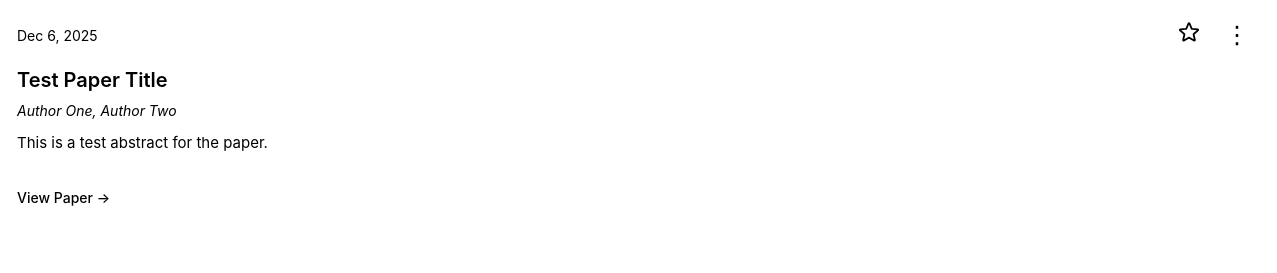
Test case: PaperCard › actions menu › should show actions dropdown when more button is clicked
Click the button titled "More actions".
click(1237, 35)  # box [1217, 16, 1257, 54]
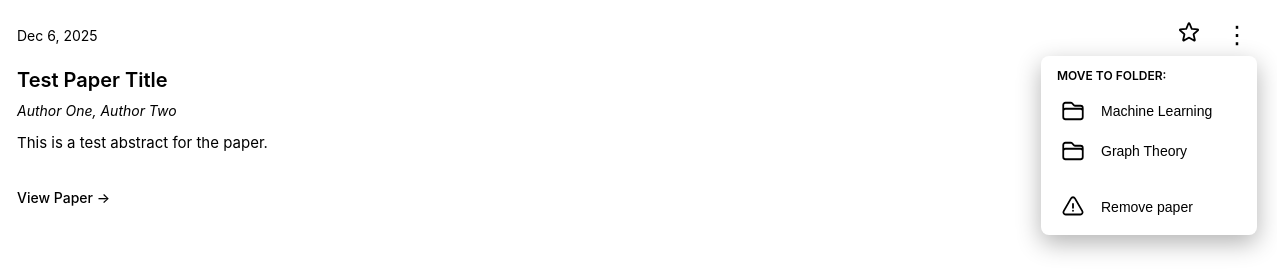
Result: the text "Move to folder:" is shown at [1057, 68, 1166, 83]
